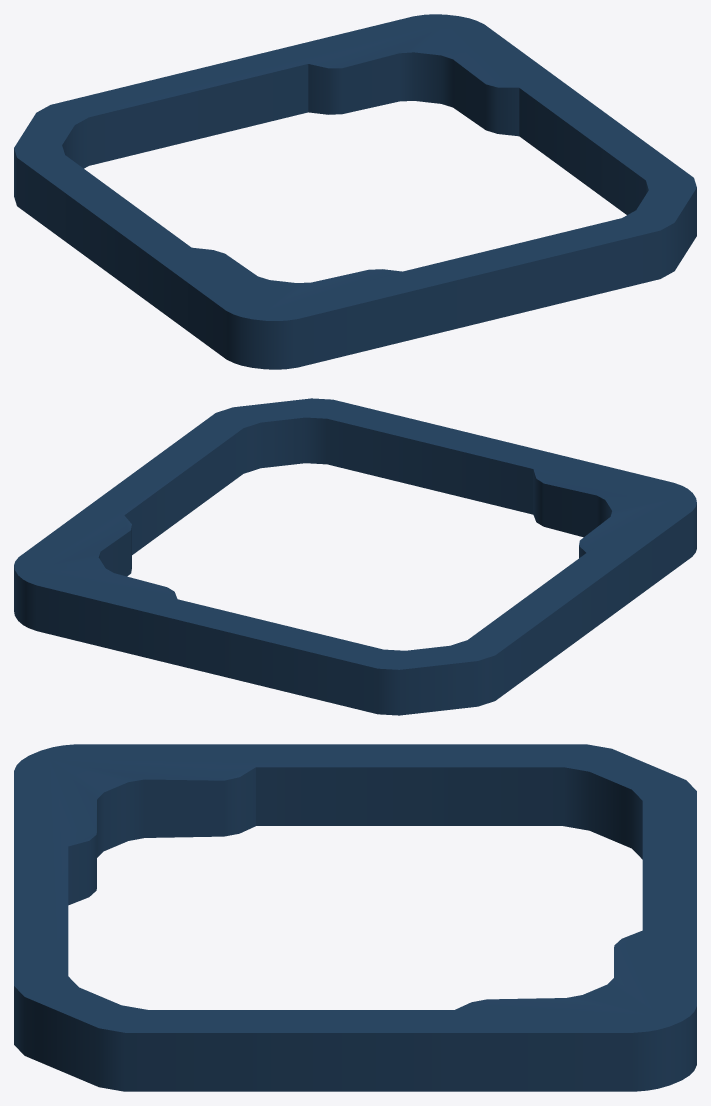
The model's file is chip_frame.fbx.
3 renders of one model, top to bottom at view 1: azimuth 30°, elevation 25°; view 2: azimuth 150°, elevation 25°; view 3: azimuth 270°, elevation 25°, orthographic. The views are drawn at different scales.
Visible parts, largest first — view 1: 立方体; view 2: 立方体; view 3: 立方体.
Part boxes in pixels (<box>): 立方体: <box>14,14,696,369</box>; 立方体: <box>14,398,696,715</box>; 立方体: <box>14,744,696,1091</box>.
Size of the model in its own units: 20000 by 1905 by 20000.
